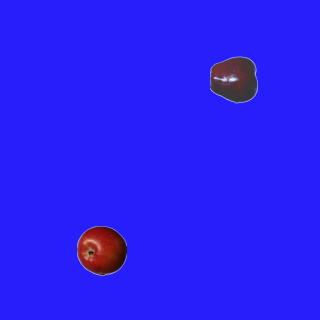Apple Braeburn: (76, 225, 126, 275)
Apple Red Delicious: (209, 54, 259, 104)
